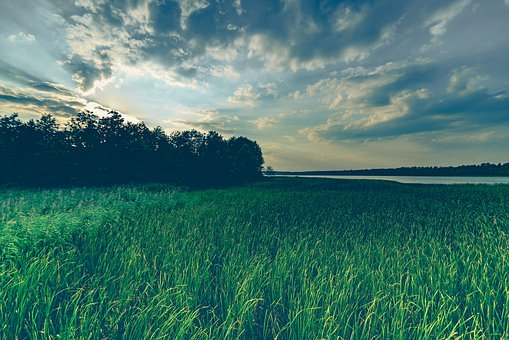field: (8, 162, 509, 339)
sky: (6, 4, 509, 142)
